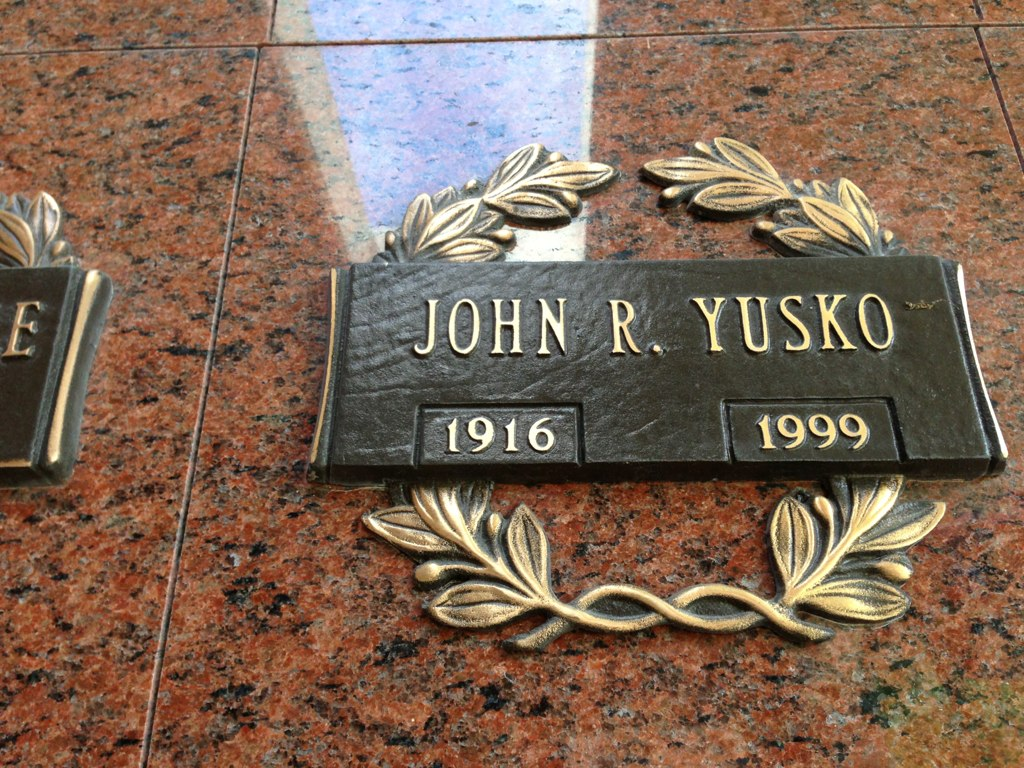plaque: (302, 250, 1012, 475)
